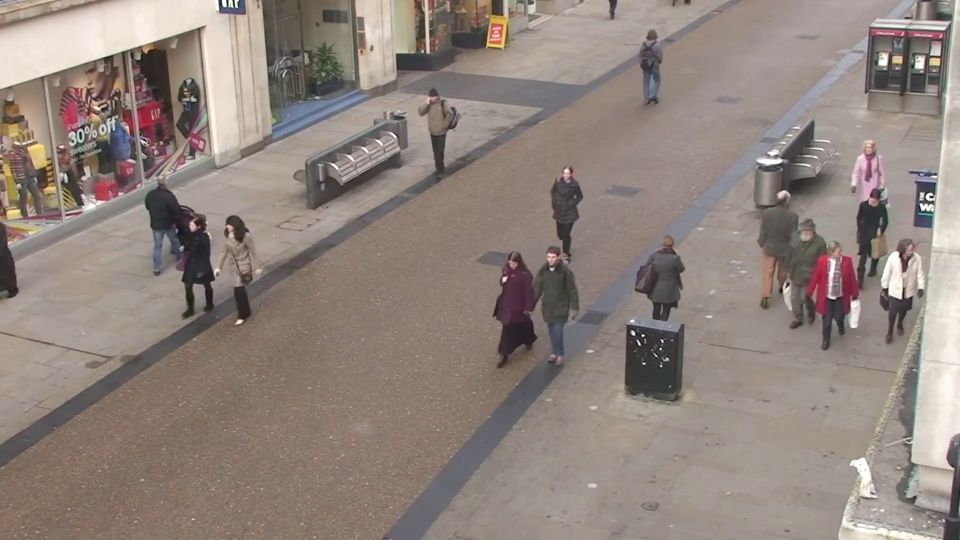pedestrian: (872, 237, 926, 367), (804, 237, 853, 366), (775, 222, 821, 347), (168, 216, 216, 335), (208, 216, 255, 337), (485, 248, 528, 380), (528, 249, 569, 381), (843, 187, 890, 302), (648, 225, 690, 351), (153, 164, 197, 270), (764, 179, 805, 292), (844, 138, 887, 241), (545, 162, 579, 272), (414, 90, 445, 178), (643, 27, 668, 98)
